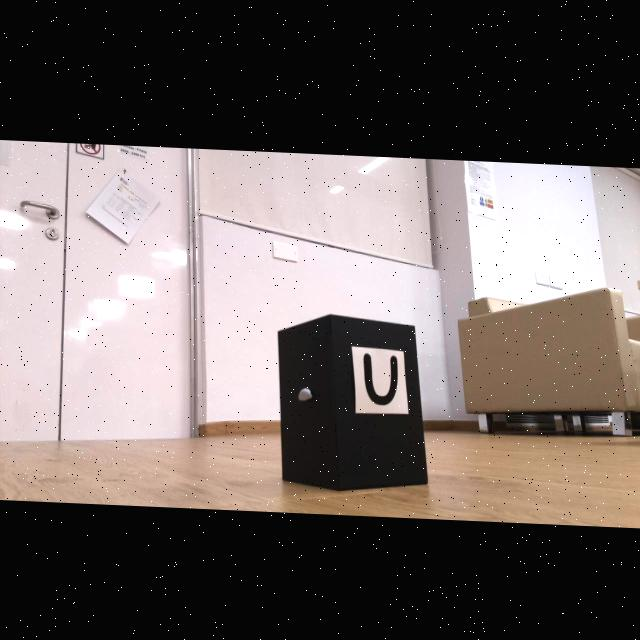U: (363, 349, 398, 402)
